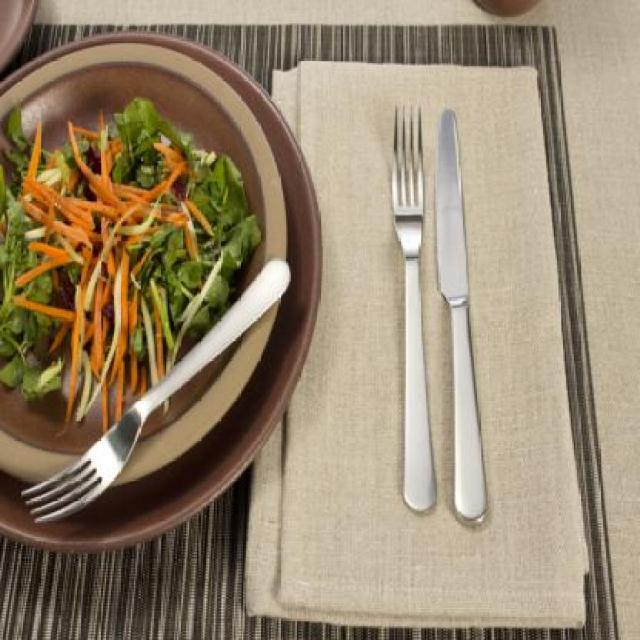Carrot: (12, 113, 216, 436), (105, 244, 128, 390)
